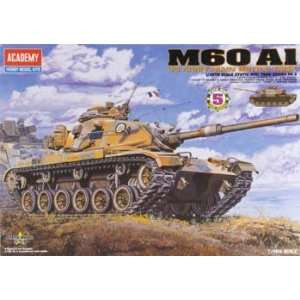Battle Tank: (4, 96, 300, 222)
